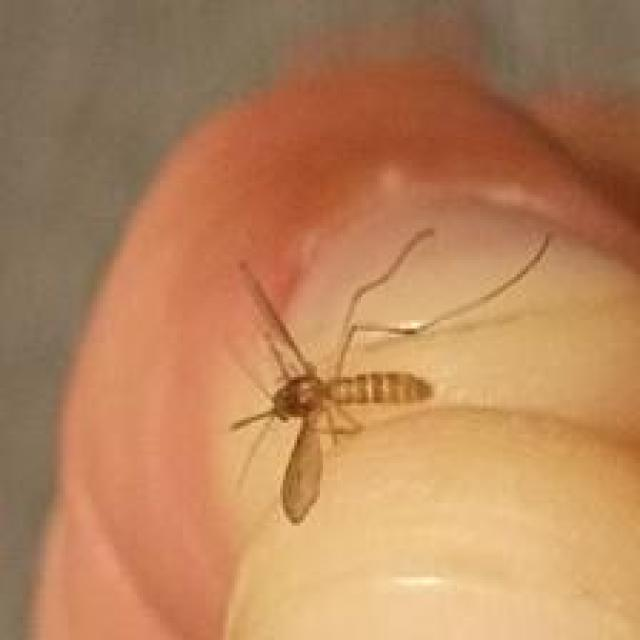Culex: (221, 225, 553, 526)
